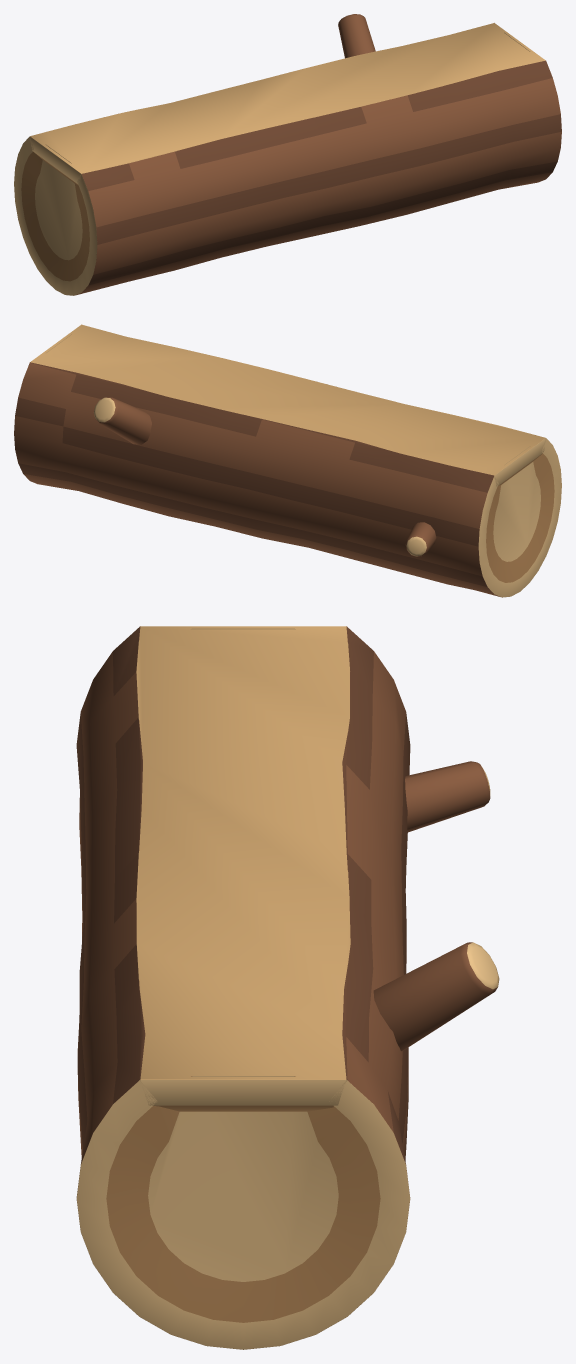
The model's file is LogBench.glb.
3 views of the same model, one above another, from view 1: azimuth 30°, elevation 25°; view 2: azimuth 150°, elevation 25°; view 3: azimuth 270°, elevation 25° (orthographic). The views are drawn at different scales.
Visible parts, largest first — view 1: LogBench, LogBench_Stub1; view 2: LogBench, LogBench_Stub1, LogBench_Stub2; view 3: LogBench, LogBench_Stub1, LogBench_Stub2.
Part boxes in pixels (x1,y1,x2,y2): LogBench: (14, 23, 561, 295); LogBench_Stub1: (338, 14, 375, 58); LogBench: (14, 324, 561, 597); LogBench_Stub1: (93, 397, 151, 444); LogBench_Stub2: (405, 522, 436, 556); LogBench: (76, 626, 410, 1349); LogBench_Stub1: (373, 942, 499, 1051); LogBench_Stub2: (405, 761, 490, 832).
Size of the model in its own units: 1.8 by 0.5564 by 0.7094.
